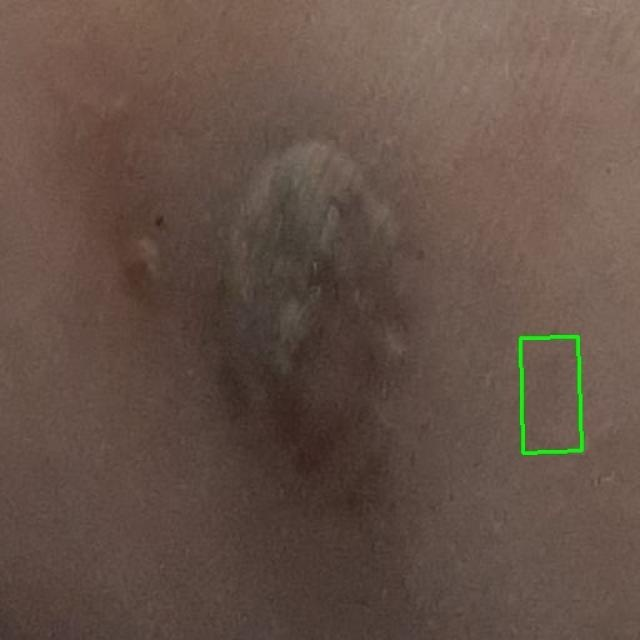Eczema: (520, 337, 582, 453)
